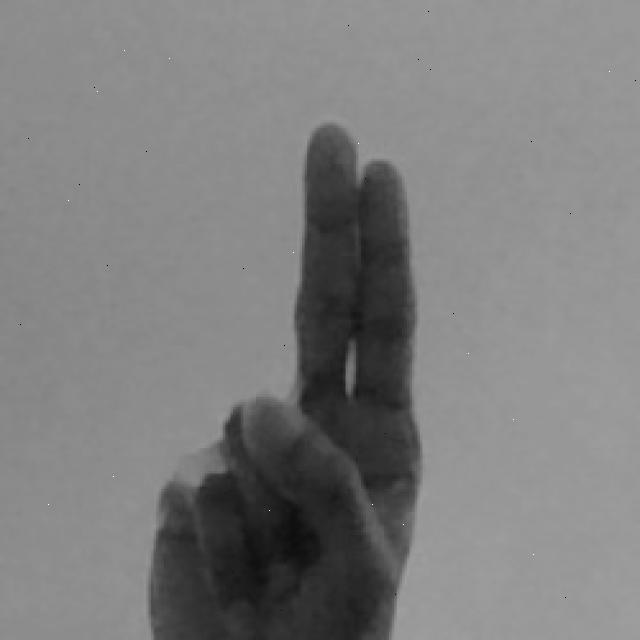U: (138, 115, 436, 640)
